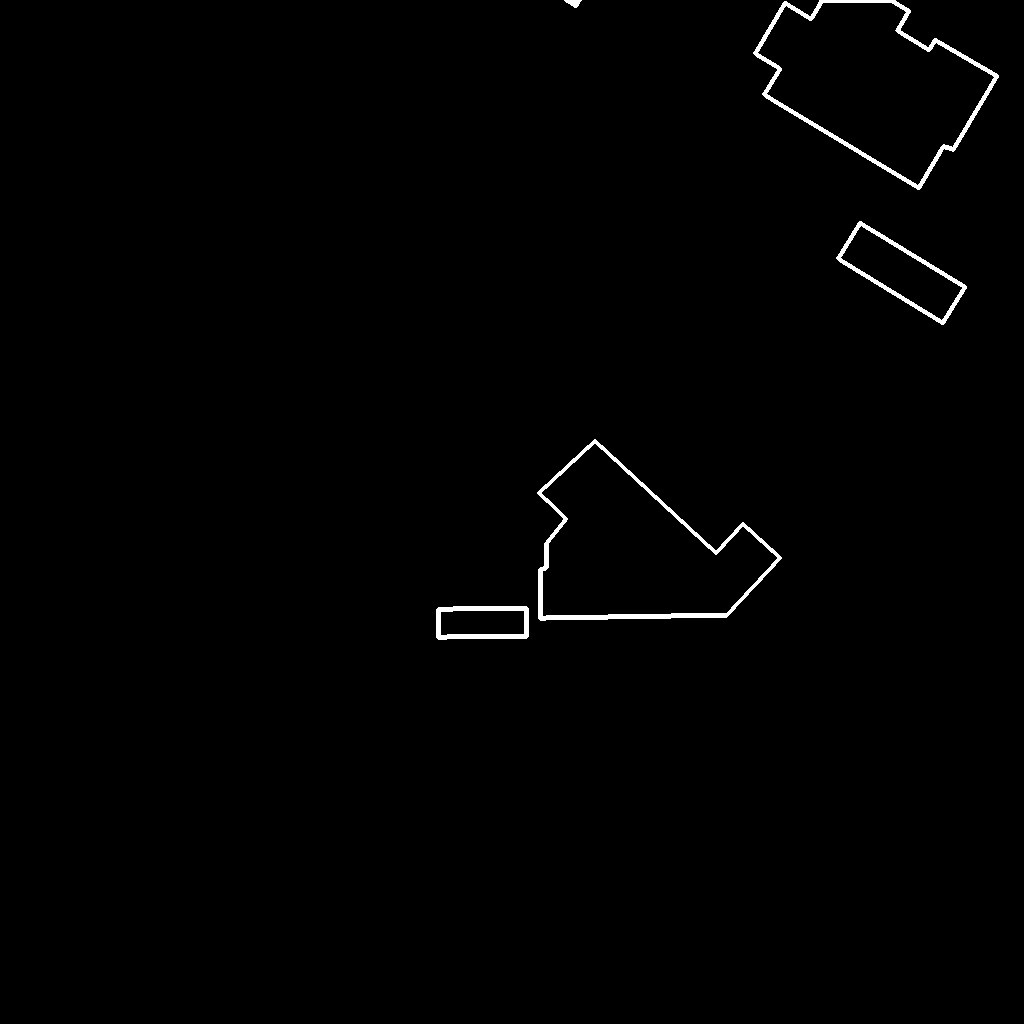building: (755, 0, 998, 189), (539, 441, 781, 619), (838, 223, 966, 324), (438, 608, 528, 638), (561, 0, 581, 7)
